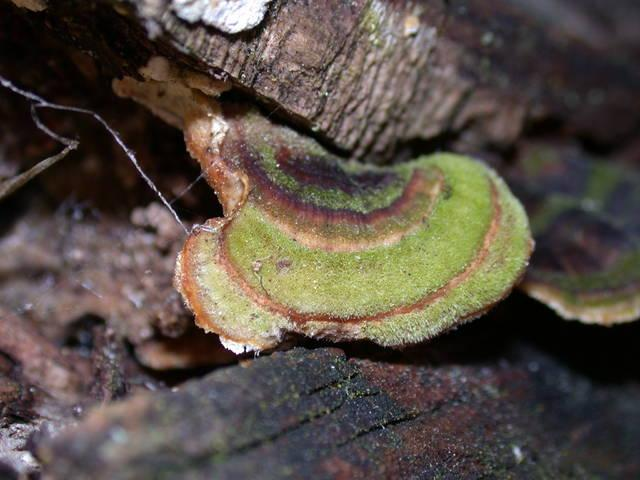Non-edible Mushroom: (111, 56, 537, 356)
